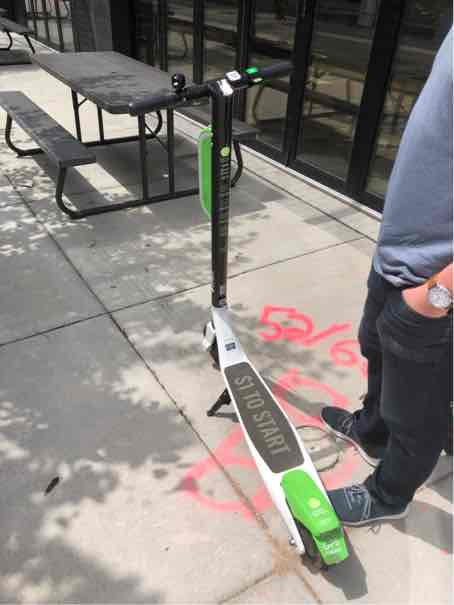scooter: (117, 55, 359, 577)
